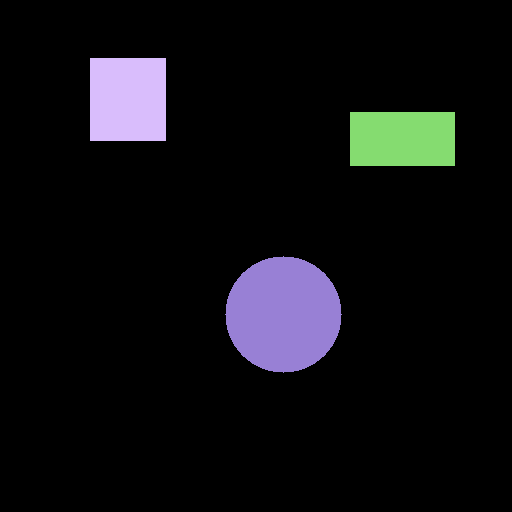circle: (225, 256, 341, 372)
rectangle: (350, 112, 454, 165)
square: (90, 58, 165, 140)
